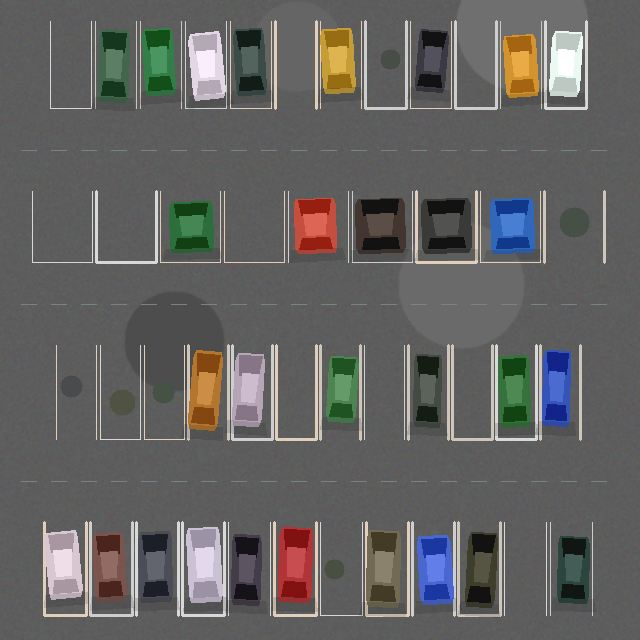space-empty: (32, 191, 92, 262), (96, 191, 156, 262), (224, 191, 284, 262), (544, 191, 604, 262), (320, 522, 362, 615), (504, 522, 546, 615), (56, 345, 96, 439), (100, 345, 140, 439), (144, 345, 184, 439), (276, 345, 316, 439), (364, 345, 404, 439), (452, 345, 492, 439), (50, 21, 91, 108), (275, 21, 316, 108), (365, 21, 406, 108), (455, 21, 496, 108)
space-occupied: (160, 191, 220, 262), (288, 191, 348, 262), (352, 191, 412, 262), (416, 191, 476, 262), (480, 191, 540, 262), (44, 522, 86, 615), (90, 522, 132, 615), (136, 522, 178, 615), (182, 522, 224, 615), (228, 522, 270, 615), (274, 522, 316, 615), (366, 522, 408, 615), (412, 522, 454, 615), (458, 522, 500, 615), (550, 522, 592, 615), (188, 345, 228, 439), (232, 345, 272, 439), (320, 345, 360, 439), (408, 345, 448, 439), (496, 345, 536, 439), (540, 345, 580, 439), (95, 21, 136, 108), (140, 21, 181, 108), (185, 21, 226, 108), (230, 21, 271, 108), (320, 21, 361, 108), (410, 21, 451, 108), (500, 21, 541, 108), (545, 21, 586, 108)
